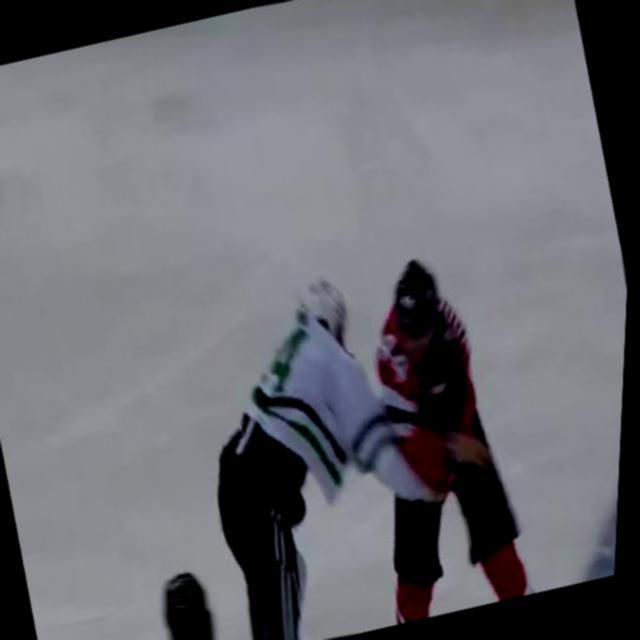fight: (162, 232, 570, 640)
